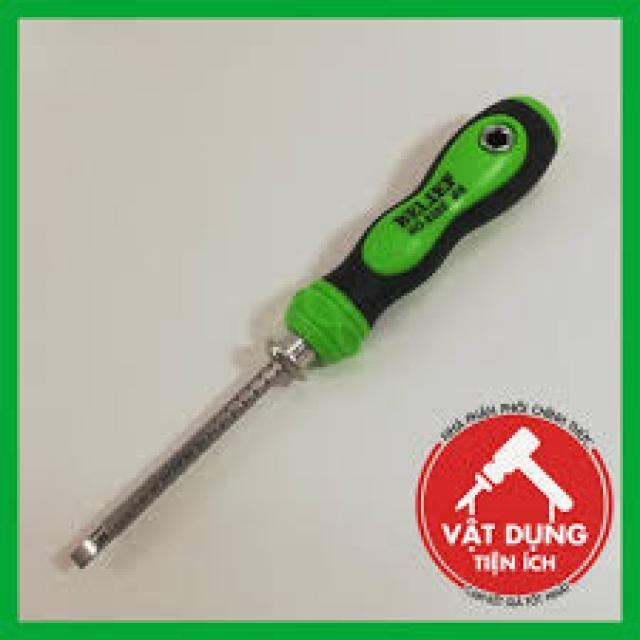screwdriver: (68, 90, 563, 574)
